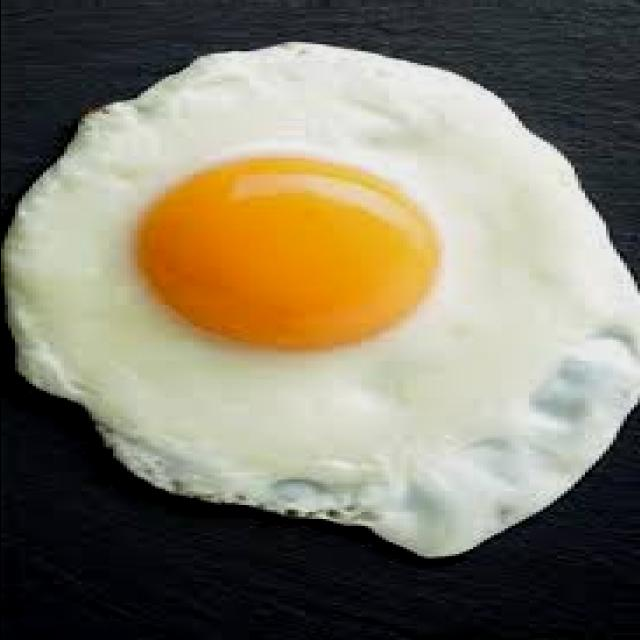telur ceplok: (3, 42, 640, 561)
